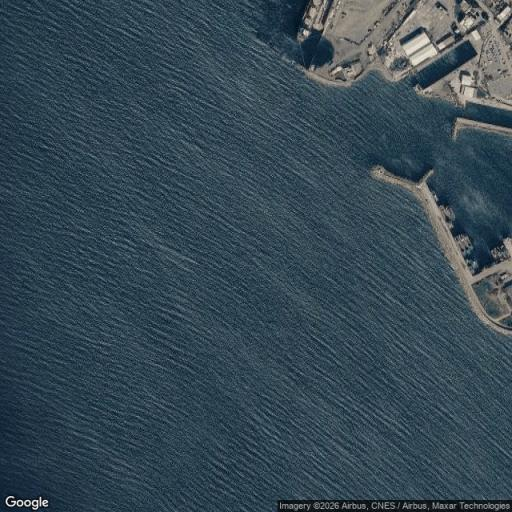ship: (296, 0, 323, 45), (437, 204, 455, 228), (449, 234, 465, 256), (455, 235, 473, 254), (462, 233, 475, 252), (487, 247, 499, 261), (494, 247, 506, 260), (499, 245, 511, 258), (445, 206, 456, 220)
